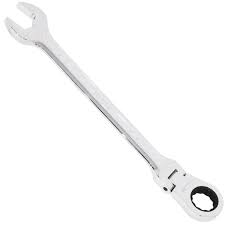wrench: (5, 1, 225, 220)
